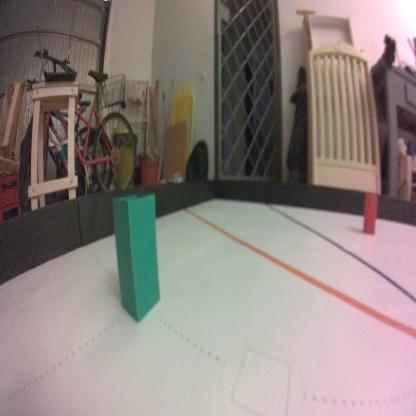green: (112, 188, 162, 325)
red: (362, 192, 381, 235)
